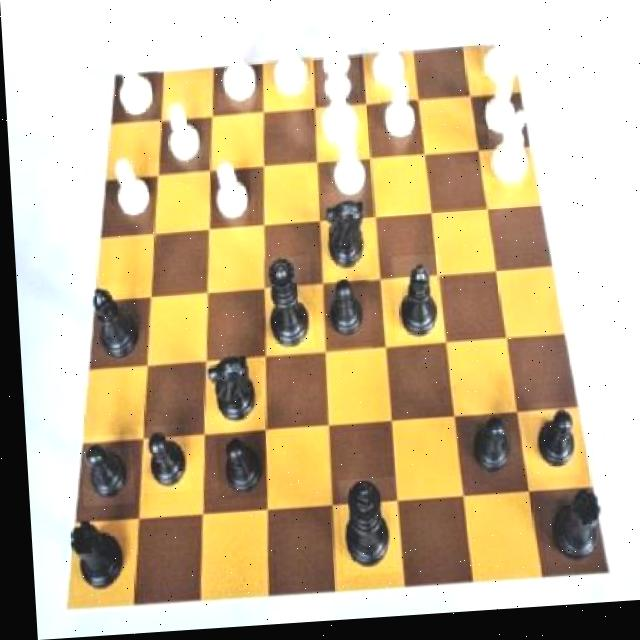bishop: (387, 261, 440, 348), (85, 286, 142, 366)
black-bishop: (332, 481, 394, 580)
black-king: (196, 351, 256, 434), (318, 196, 366, 282)
black-knight: (462, 414, 512, 494), (74, 436, 128, 509), (522, 410, 574, 485), (210, 433, 264, 502), (132, 427, 185, 496), (319, 283, 367, 356)
black-pawn: (259, 260, 309, 355)
black-queen: (55, 511, 122, 601), (534, 493, 602, 573)
black-rook: (213, 27, 263, 114), (365, 11, 412, 102)
white-bishop: (314, 41, 362, 161)
white-king: (484, 111, 535, 197)
white-knight: (106, 152, 154, 226), (163, 100, 207, 170), (325, 141, 371, 206), (480, 81, 520, 146), (379, 82, 417, 149), (209, 163, 249, 226)
white-pawn: (262, 0, 312, 106)
white-queen: (104, 46, 159, 129), (478, 11, 524, 97)
